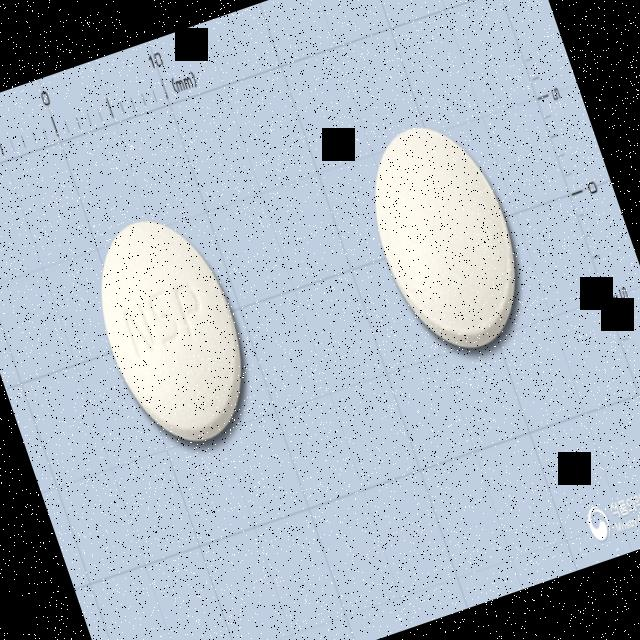Ciproctan - 500mg: (70, 194, 282, 470)
